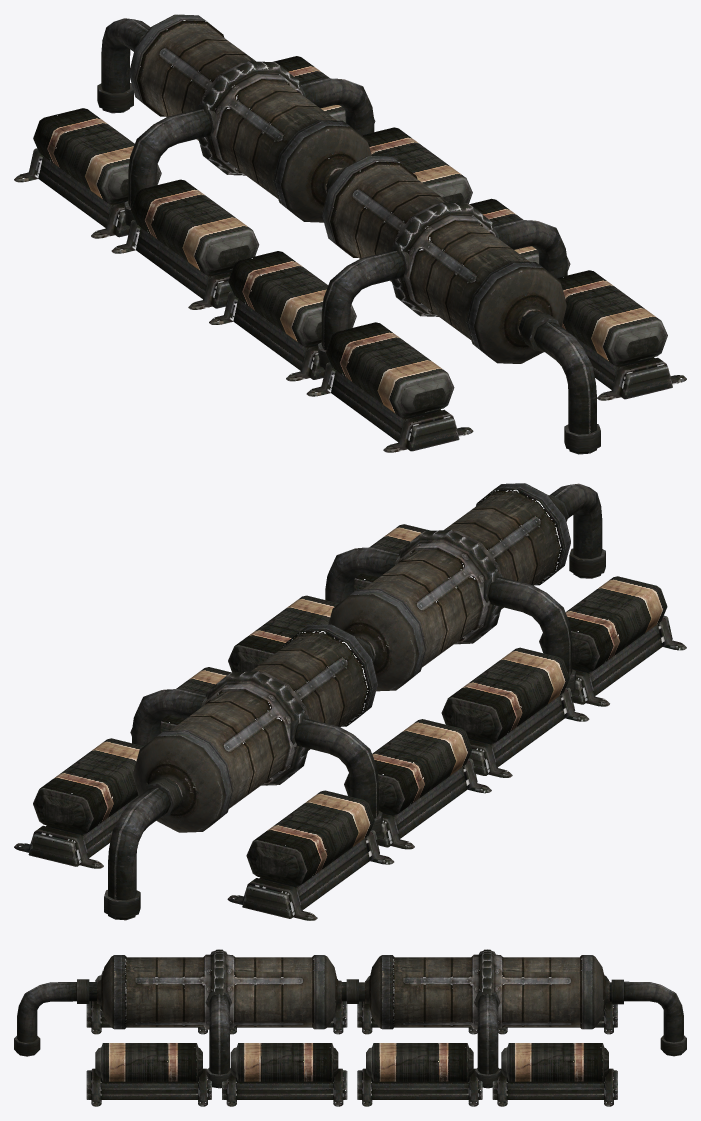
The model's file is tesla_dressing_metaldetails_03.dae.
3 views of the same model, one above another, from view 1: azimuth 30°, elevation 25°; view 2: azimuth 150°, elevation 25°; view 3: azimuth 270°, elevation 25° (orthographic). The views are drawn at different scales.
Visible parts, largest first — view 1: polySurface56; view 2: polySurface56; view 3: polySurface56.
Part boxes in pixels (x1,y1,x2,y2): polySurface56: (14,14,686,454); polySurface56: (14,483,686,920); polySurface56: (14,949,686,1106).
Size of the model in its own units: 499 by 231 by 1392.
